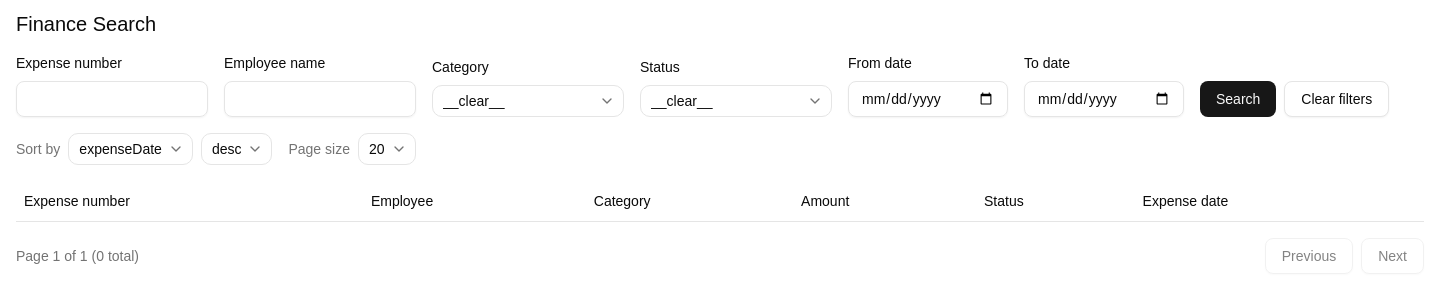
Test case: FinanceSearchPage › offers only 20, 50, 100, and 500 as page-size options
The width and height of the screenshot is (1440, 291).
Step 1. Click the dropdown named "page size" → point(387, 149), box [358,133,416,165]
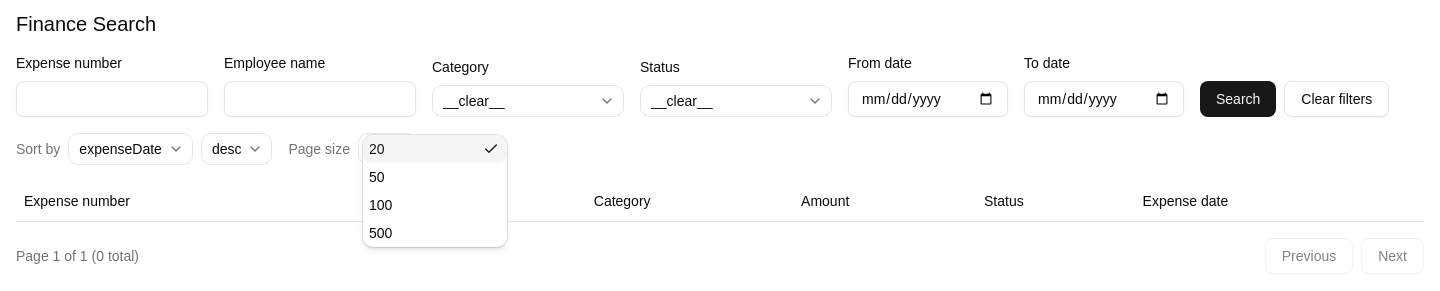
Expected: the options read "20", "50", "100", "500", in this order, [363,135,507,163]; [369,169,384,185]; [369,197,392,213]; [369,225,392,241]
